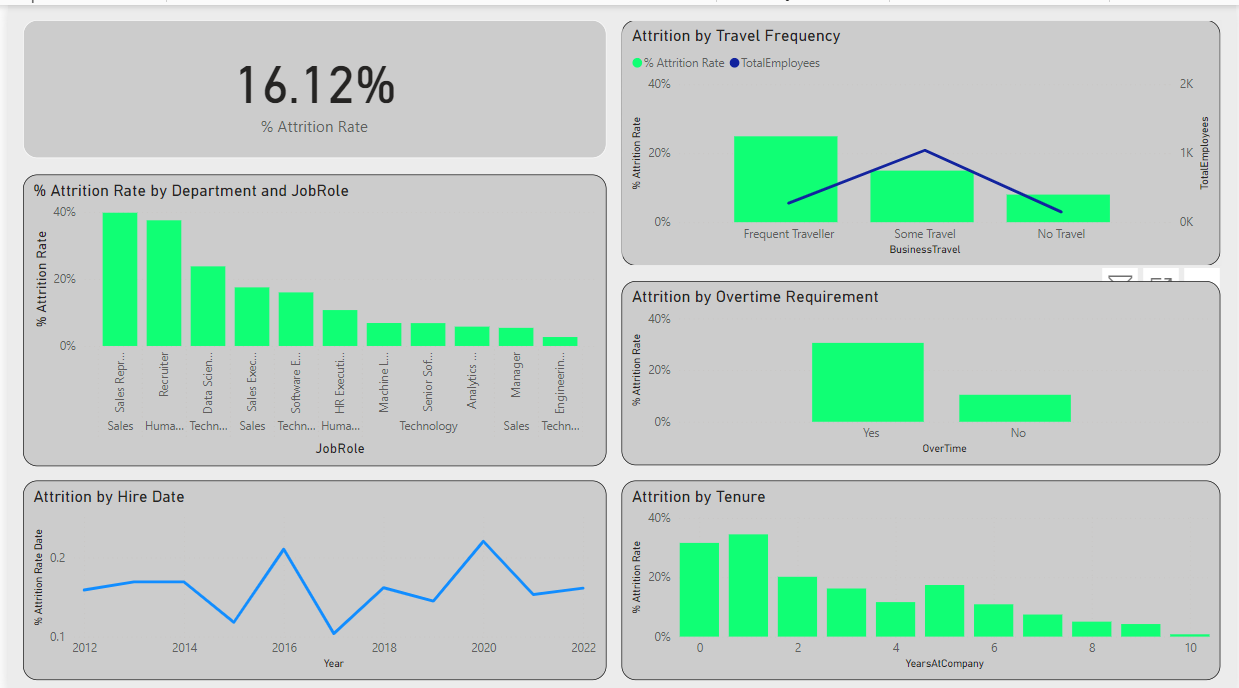

The page's visual inventory and layout, read from the dashboard file:
{"tool":"powerbi","page":{"name":"Attrition","canvas":[1280,720],"ordinal":3},"visuals":[{"type":"columnChart","fields":{"Category":["DimEmployee.Department","DimEmployee.JobRole"],"Y":["_Measures.% Attrition Rate"]},"box":[16,176,608,304],"z":0},{"type":"lineChart","title":"Attrition by Hire Date","fields":{"Y":["_Measures.% Attrition Rate Date"],"Category":["DimDate.Date.Variation.Date Hierarchy.Year","DimDate.Date.Variation.Date Hierarchy.Quarter","DimDate.Date.Variation.Date Hierarchy.Month","DimDate.Date.Variation.Date Hierarchy.Day"]},"box":[16,496,608,208],"z":1000},{"type":"lineStackedColumnComboChart","title":"Attrition by Travel Frequency","fields":{"Y":["_Measures.% Attrition Rate"],"Category":["DimEmployee.BusinessTravel"],"Y2":["_Measures.TotalEmployees"]},"box":[640,16,624,256],"z":2000},{"type":"columnChart","title":"Attrition by Overtime Requirement","fields":{"Category":["DimEmployee.OverTime"],"Y":["_Measures.% Attrition Rate"]},"box":[640,288,624,192],"z":3000},{"type":"columnChart","title":"Attrition by Tenure","fields":{"Category":["DimEmployee.YearsAtCompany"],"Y":["_Measures.% Attrition Rate"]},"box":[640,496,624,208],"z":4000},{"type":"card","fields":{"Values":["_Measures.% Attrition Rate"]},"box":[16,16,608,144],"z":5000}]}

Visuals, with their boxes in screenshot pixels (x1, y1, x2, y2), scaled from the page's 1280x720 canvas onto the 1239x688 screenshot:
columnChart - DimEmployee.Department x DimEmployee.JobRole: <box>15,168,604,459</box>
"Attrition by Hire Date" lineChart: <box>15,474,604,673</box>
"Attrition by Travel Frequency" lineStackedColumnComboChart: <box>620,15,1224,260</box>
"Attrition by Overtime Requirement" columnChart: <box>620,275,1224,459</box>
"Attrition by Tenure" columnChart: <box>620,474,1224,673</box>
card - _Measures.% Attrition Rate: <box>15,15,604,153</box>
